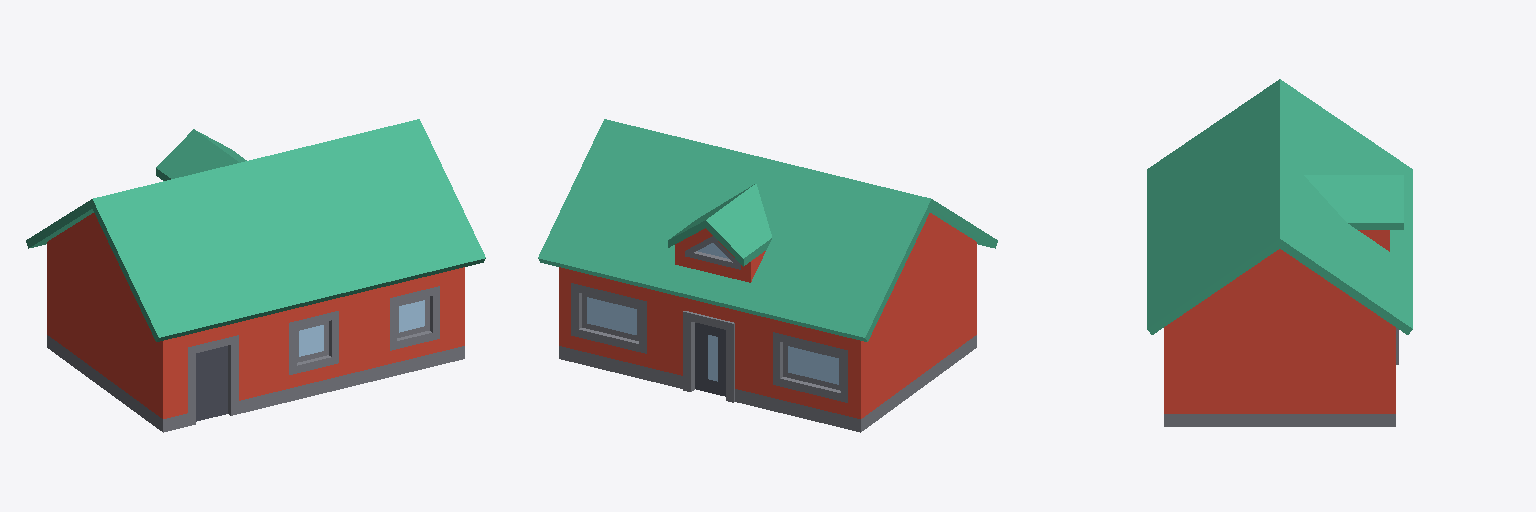
File: house_type07.obj
3 views of the same model, side by side, from view 1: azimuth 30°, elevation 25°; view 2: azimuth 150°, elevation 25°; view 3: azimuth 270°, elevation 25° (orthographic).
Visible parts, largest first — view 1: house_type07; view 2: house_type07; view 3: house_type07.
Part boxes in pixels (left/top/right/bottom): house_type07: left=26, top=119, right=485, bottom=432; house_type07: left=538, top=119, right=997, bottom=432; house_type07: left=1147, top=79, right=1412, bottom=426.
Size of the model in its own units: 1.3 by 0.7375 by 0.916.